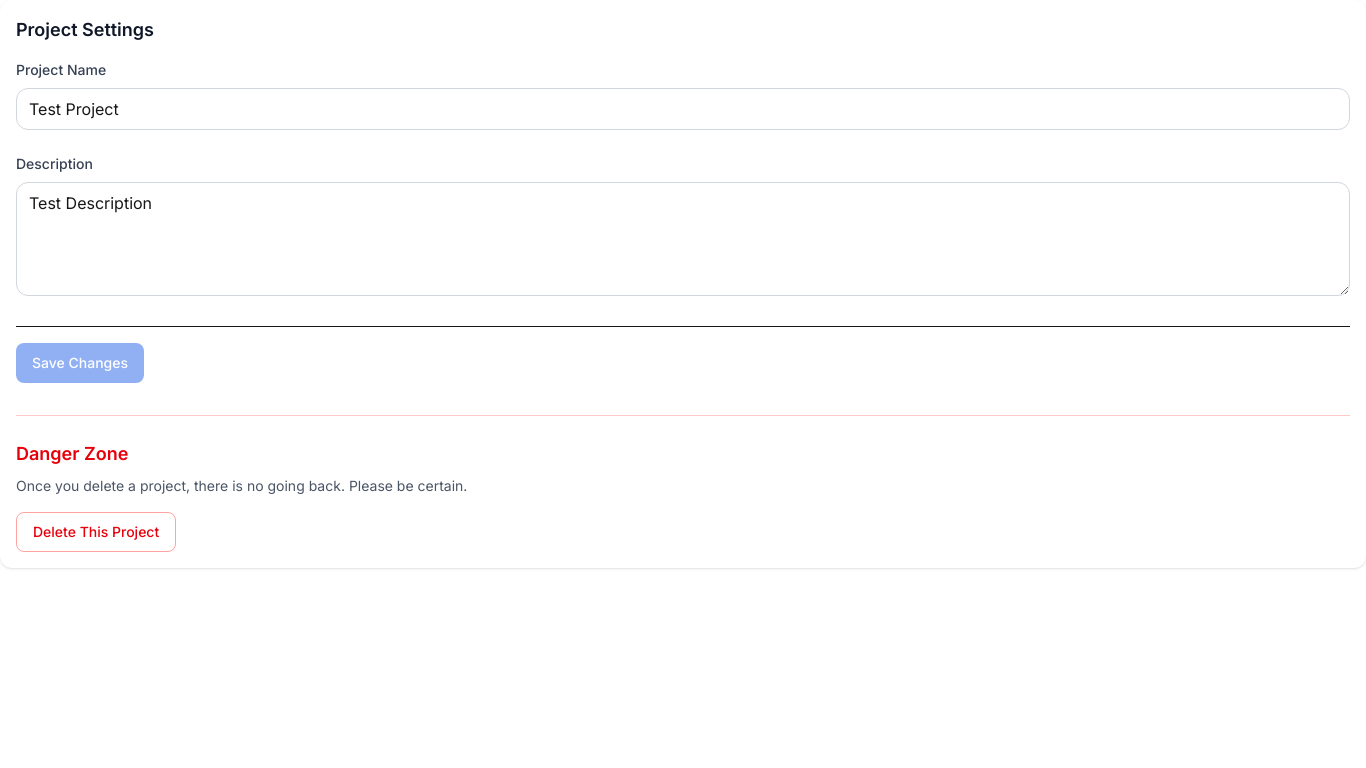
ProjectSettingsTab › disables buttons while deleting
Step 1. Click the button "Delete This Project" → x=96, y=532, box x1=16 y1=512 x2=176 y2=552
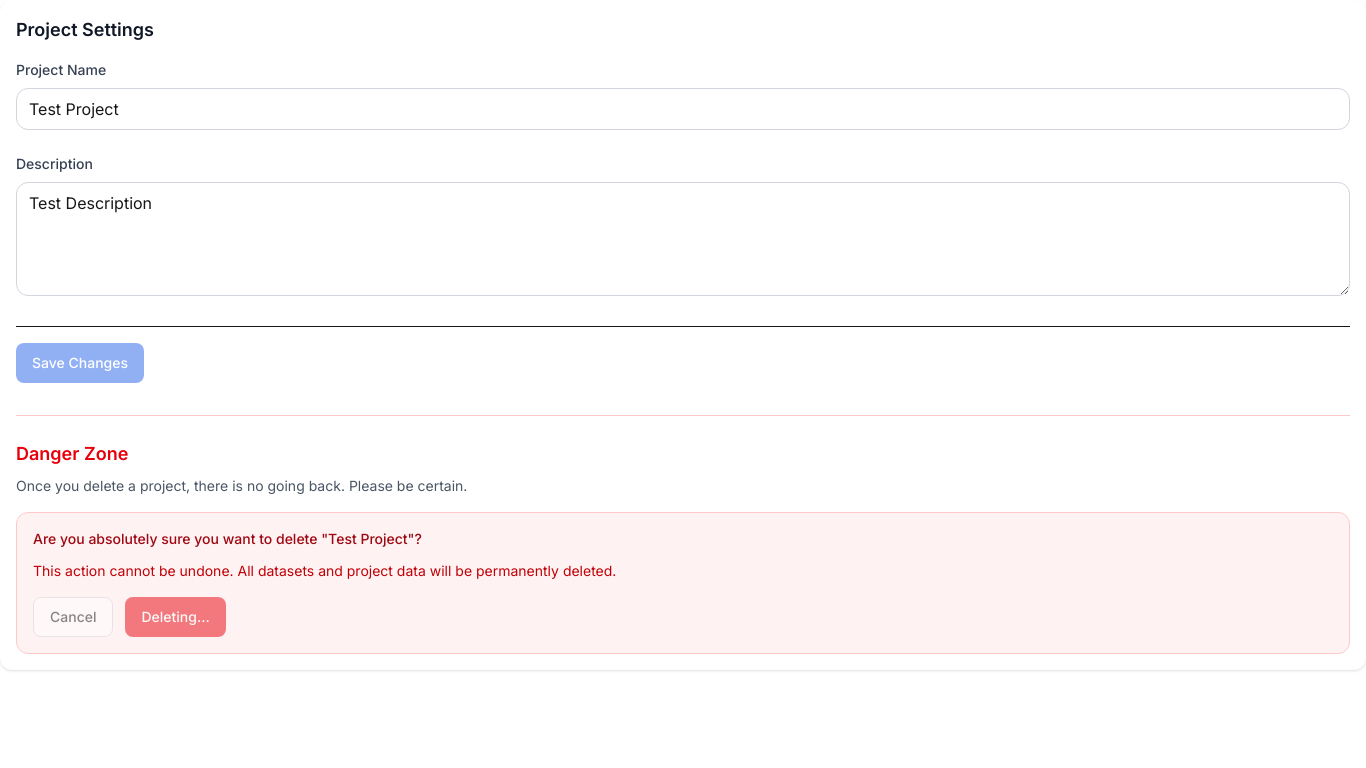
Result: the button "Cancel" is disabled at x1=33 y1=597 x2=114 y2=637
Result: the button "Deleting..." is disabled at x1=126 y1=597 x2=226 y2=637
